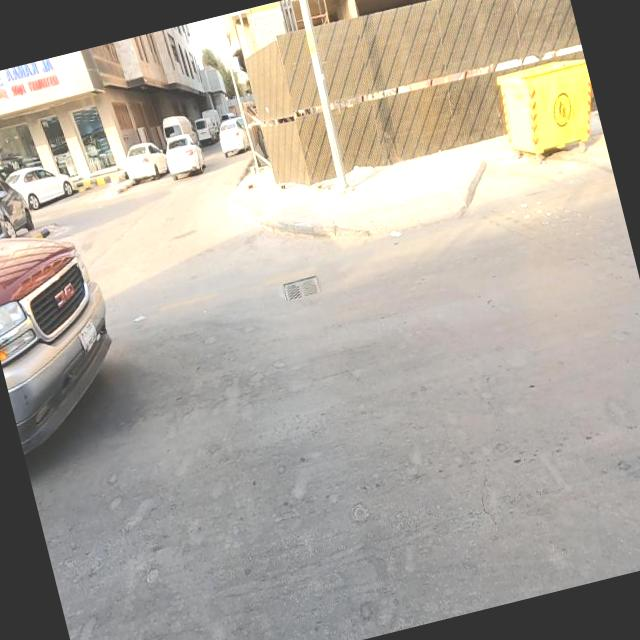debris: (365, 199, 427, 269), (109, 280, 173, 344)
